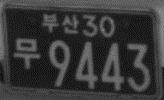0: (100, 14, 114, 38)
3: (126, 43, 151, 93), (82, 14, 98, 36)
4: (75, 42, 98, 88), (102, 43, 124, 90)
9: (48, 39, 71, 87)
무: (12, 37, 40, 69)
부산_O: (41, 12, 80, 35)
